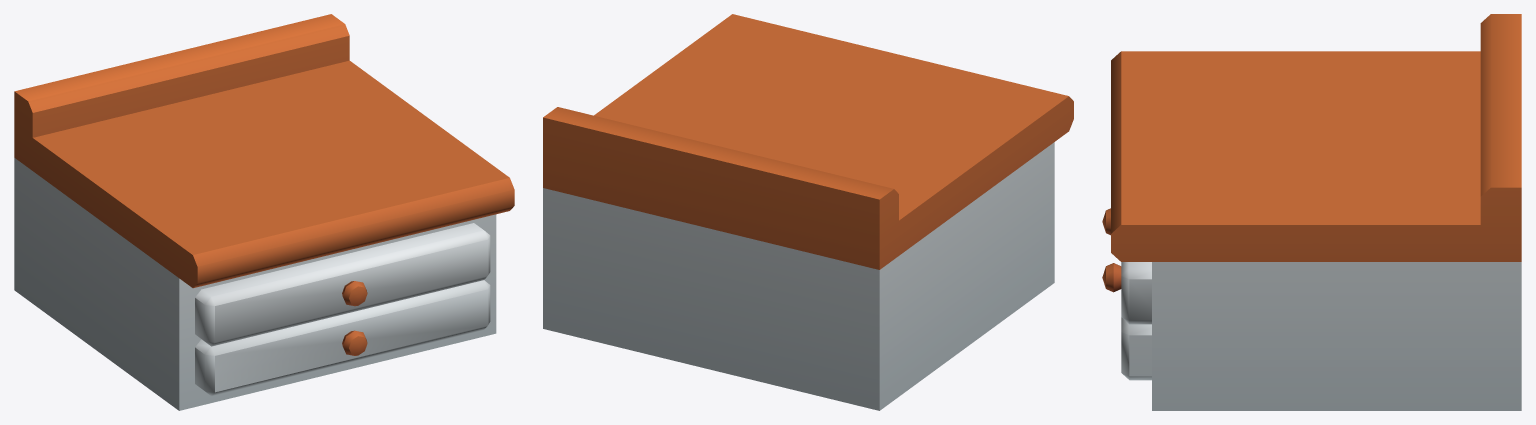
File: kay-kitchencounter_straight_a_backsplash.glb
The picture shows the model from 3 angles, left to right: view 1: azimuth 30°, elevation 25°; view 2: azimuth 150°, elevation 25°; view 3: azimuth 270°, elevation 25°; orthographic projection. The views are drawn at different scales.
Parts seen in each view (by area): view 1: kitchencounter_straight_A_backsplash; view 2: kitchencounter_straight_A_backsplash; view 3: kitchencounter_straight_A_backsplash.
Boxes of the visible parts, x1,y1,x2,y2 form: kitchencounter_straight_A_backsplash: (14,14,514,410); kitchencounter_straight_A_backsplash: (543,14,1073,410); kitchencounter_straight_A_backsplash: (1102,14,1521,410).
Size of the model in its own units: 1.18 by 0.7052 by 1.2.
1 material, 1 textured.
